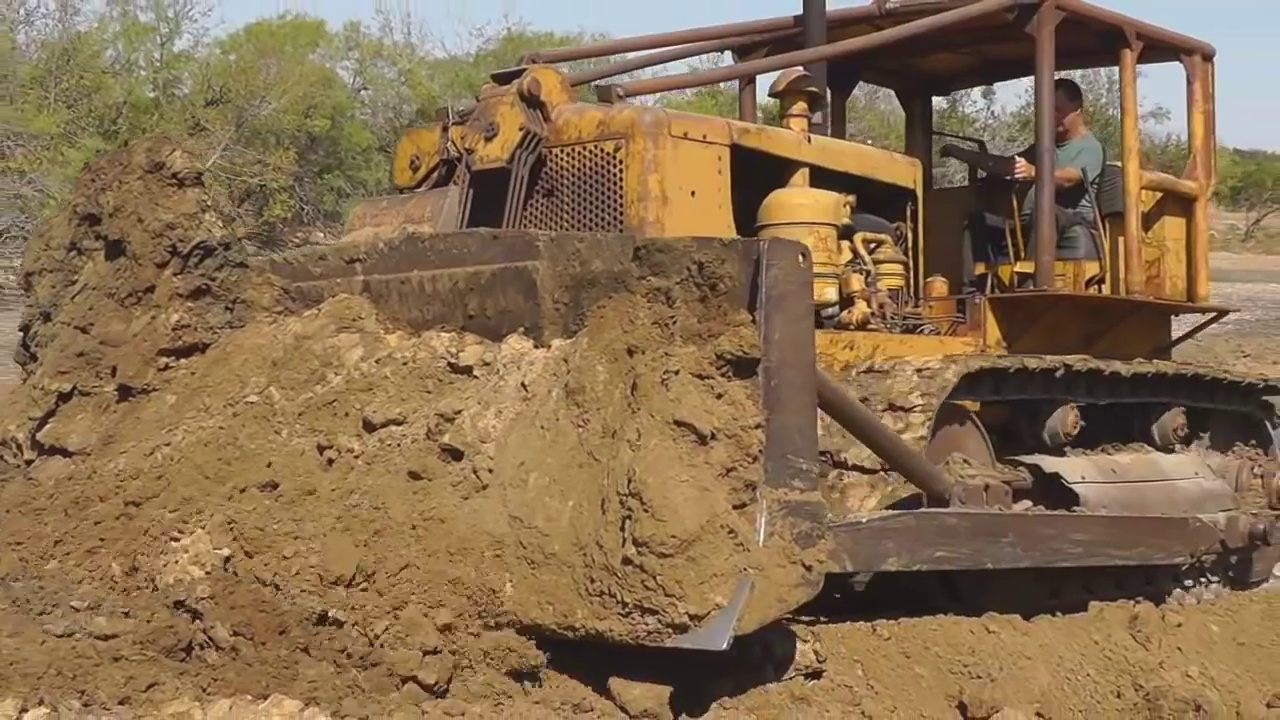bulldozer: (185, 3, 1279, 653)
person: (989, 81, 1106, 286)
